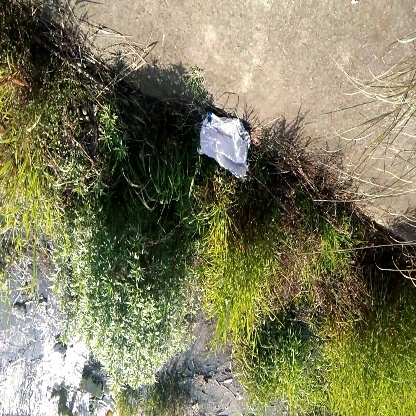plastic-bag: (195, 108, 251, 179)
